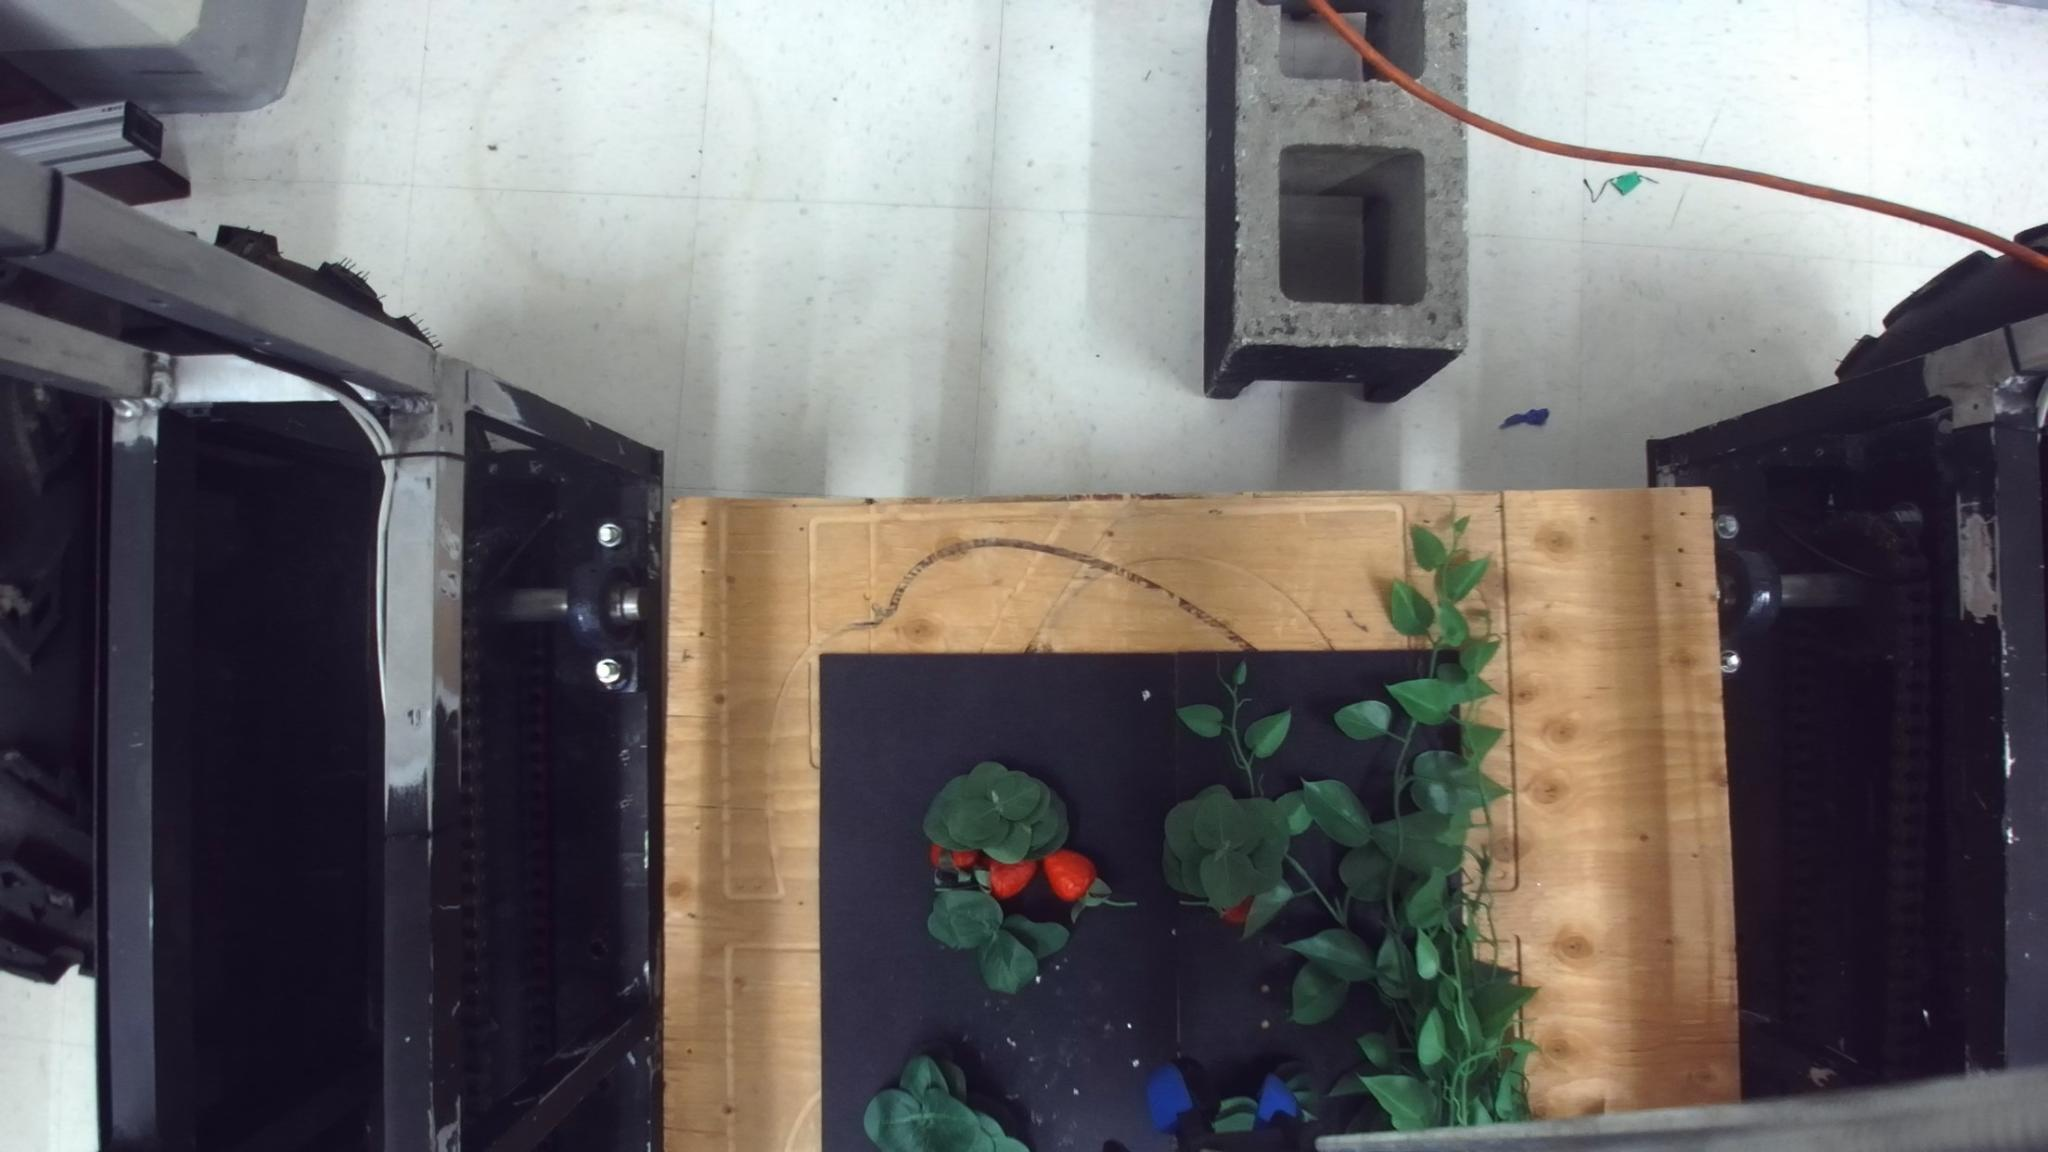strawberry: (1041, 848, 1094, 902), (987, 855, 1037, 899), (1217, 893, 1253, 926), (949, 847, 980, 869), (927, 843, 949, 869)
